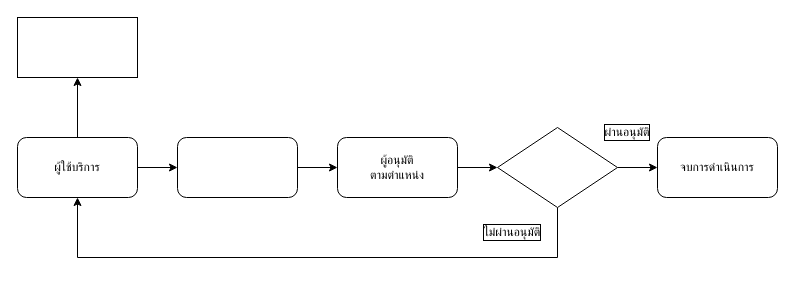
The diagram is 795 pixels wide and 283 high, and some of its shapes have lost their labels. Here are the shapes that lost their labels. From the top down, the centre of each, then its label:
pixel 77 47: เพิ่มรายการรายจ่าย
pixel 237 167: ตรวจรับงาน
